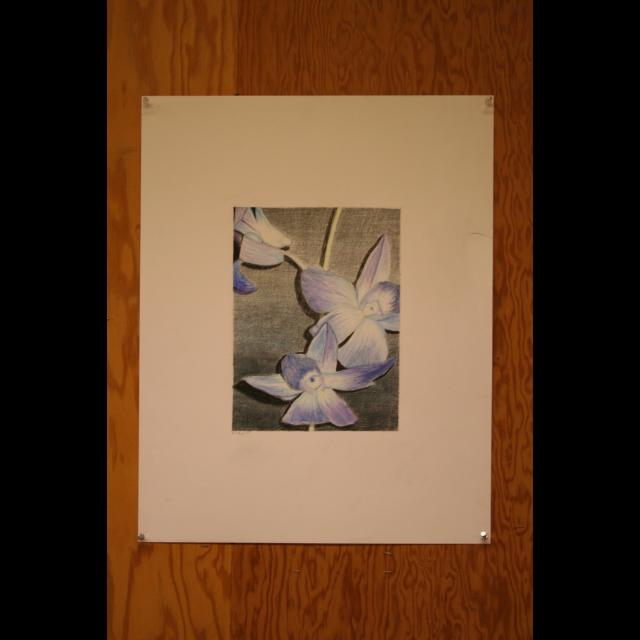Flower: (298, 238, 406, 372), (246, 337, 378, 425), (232, 204, 296, 300)
